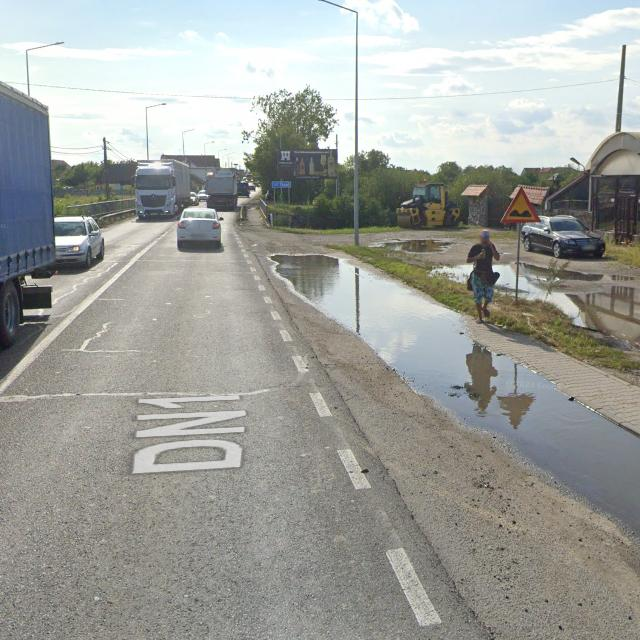warn_poor_road_surface: (500, 185, 540, 224)
